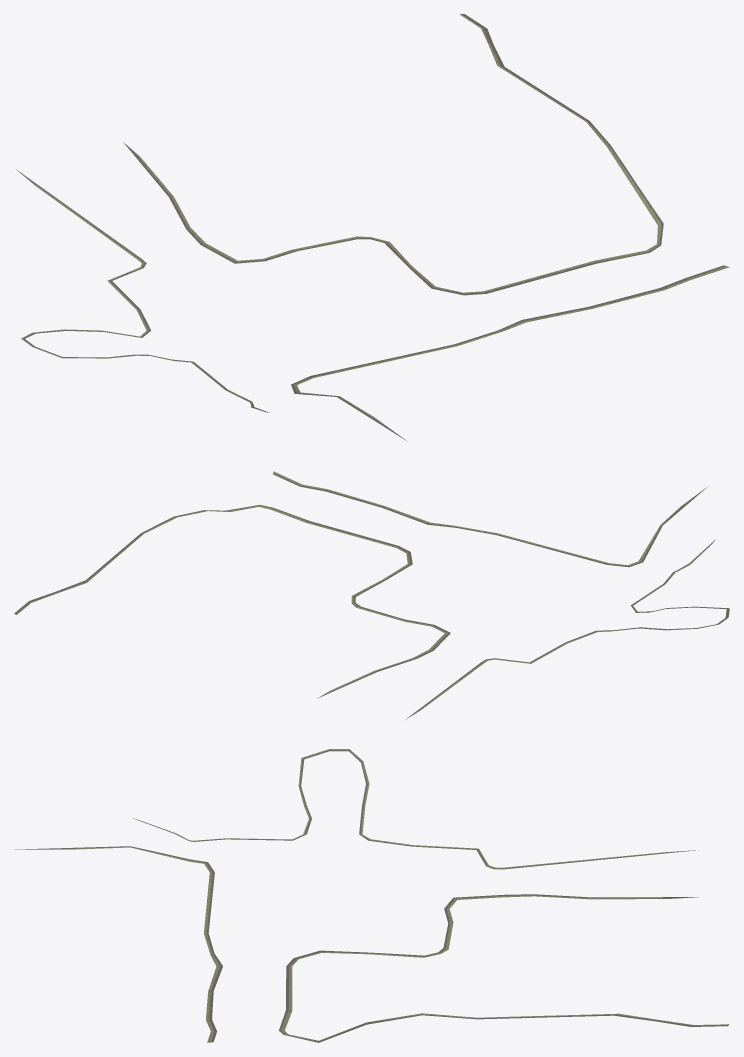
Rendered from kd_stage_135c43_4_148.glb.
3 views of the same model, one above another, from view 1: azimuth 30°, elevation 25°; view 2: azimuth 150°, elevation 25°; view 3: azimuth 270°, elevation 25° (orthographic). The views are drawn at different scales.
Parts seen in each view (by area): view 1: kd_stage_135c43_4_148; view 2: kd_stage_135c43_4_148; view 3: kd_stage_135c43_4_148.
Boxes of the visible parts, box(x1,y1,x2,y2) form: kd_stage_135c43_4_148: box(16, 14, 729, 441); kd_stage_135c43_4_148: box(14, 471, 729, 719); kd_stage_135c43_4_148: box(14, 749, 729, 1042).
Size of the model in its own units: 7.5 by 0.4681 by 7.93.
1 material, 1 textured.
